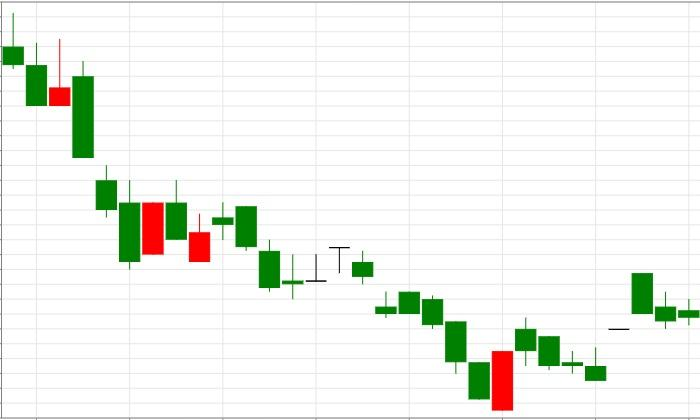bullish_engulfing_rise: (328, 247, 513, 411)
